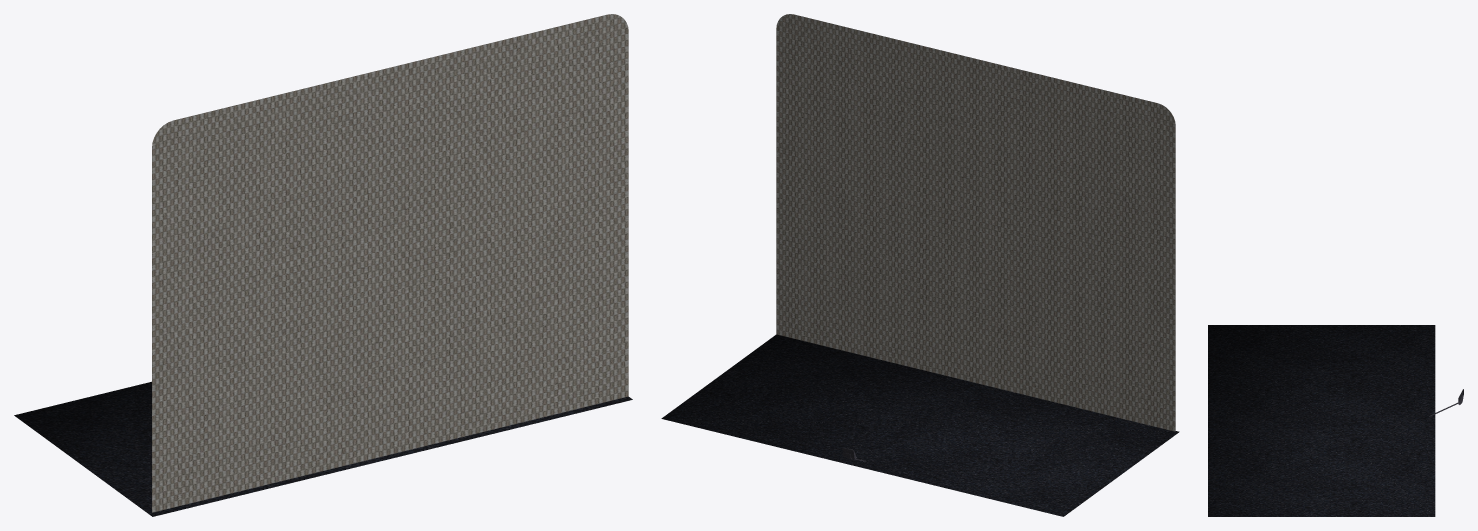
Rendered from Stand_Camioneta.obj.
3 views of the same model, side by side, from view 1: azimuth 30°, elevation 25°; view 2: azimuth 150°, elevation 25°; view 3: azimuth 270°, elevation 25° (orthographic). The views are drawn at different scales.
Visible parts, largest first — view 1: 3DM007_straight_wall_front, 3DM007_floor_carpet; view 2: 3DM007_straight_wall_front, 3DM007_floor_carpet; view 3: 3DM007_floor_carpet.
Boxes of the visible parts, left/top/right/bottom form: 3DM007_straight_wall_front: left=152, top=14, right=628, bottom=512; 3DM007_floor_carpet: left=14, top=381, right=632, bottom=516; 3DM007_straight_wall_front: left=776, top=14, right=1175, bottom=431; 3DM007_floor_carpet: left=661, top=334, right=1179, bottom=516; 3DM007_floor_carpet: left=1208, top=325, right=1435, bottom=516.
Bounding box in the file's own units: 7.27 × 5.62 × 4.09.
3 materials, 3 textured.
